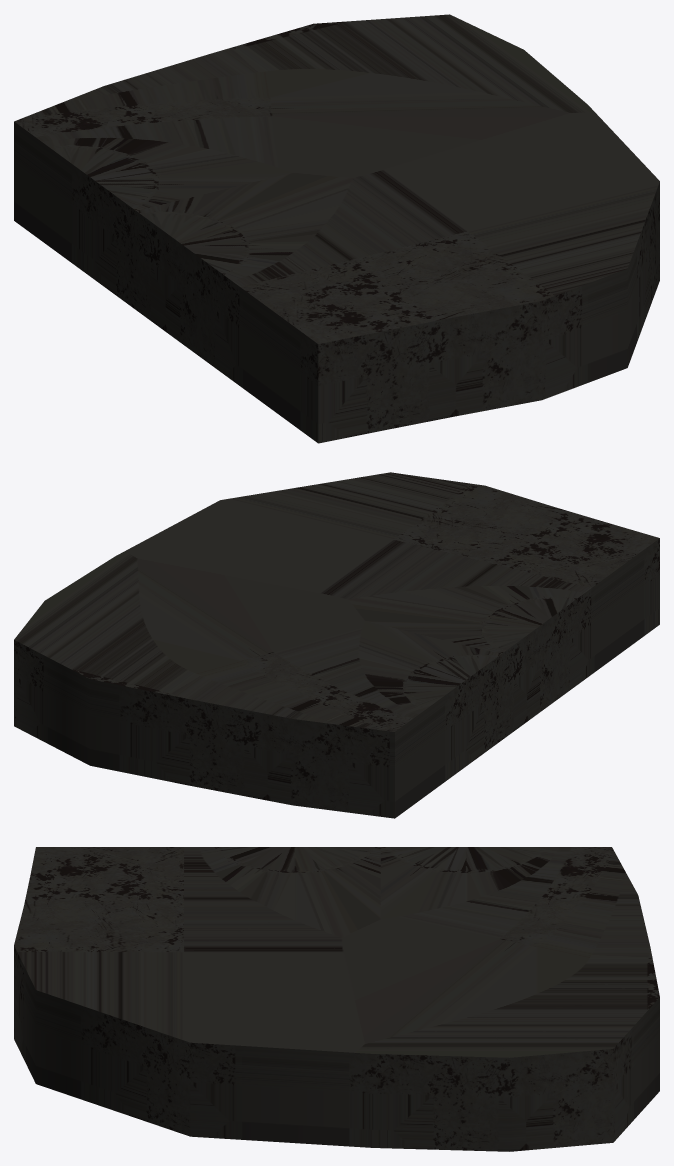
File: Rubble08.FBX
3 views of the same model, one above another, from view 1: azimuth 30°, elevation 25°; view 2: azimuth 150°, elevation 25°; view 3: azimuth 270°, elevation 25° (orthographic). The views are drawn at different scales.
Visible parts, largest first — view 1: Rubbles; view 2: Rubbles; view 3: Rubbles.
Part boxes in pixels (box(x1,y1,x2,y2)): Rubbles: box(14, 14, 659, 443); Rubbles: box(14, 472, 659, 818); Rubbles: box(14, 847, 659, 1151).
Bounding box in the file's own units: 8652 × 1800 × 11212.
